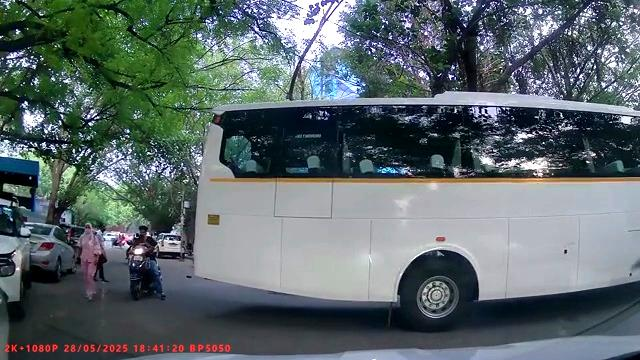motorcycle_without_helmet: (125, 223, 167, 302)
